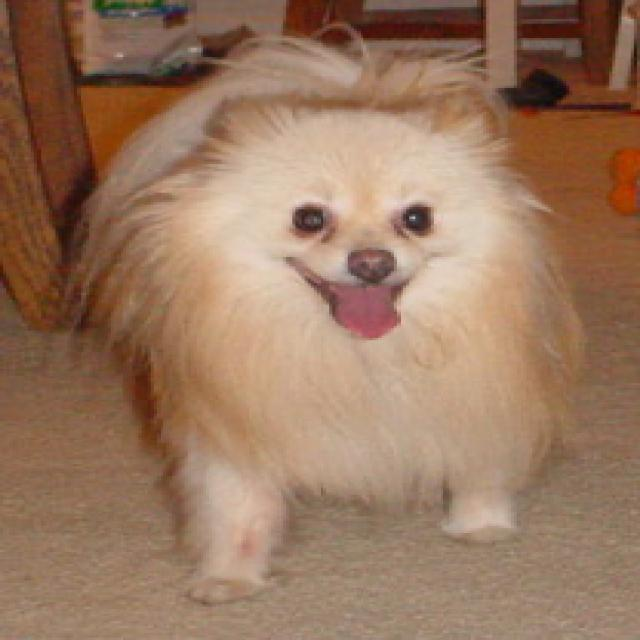dog: (200, 76, 498, 338)
